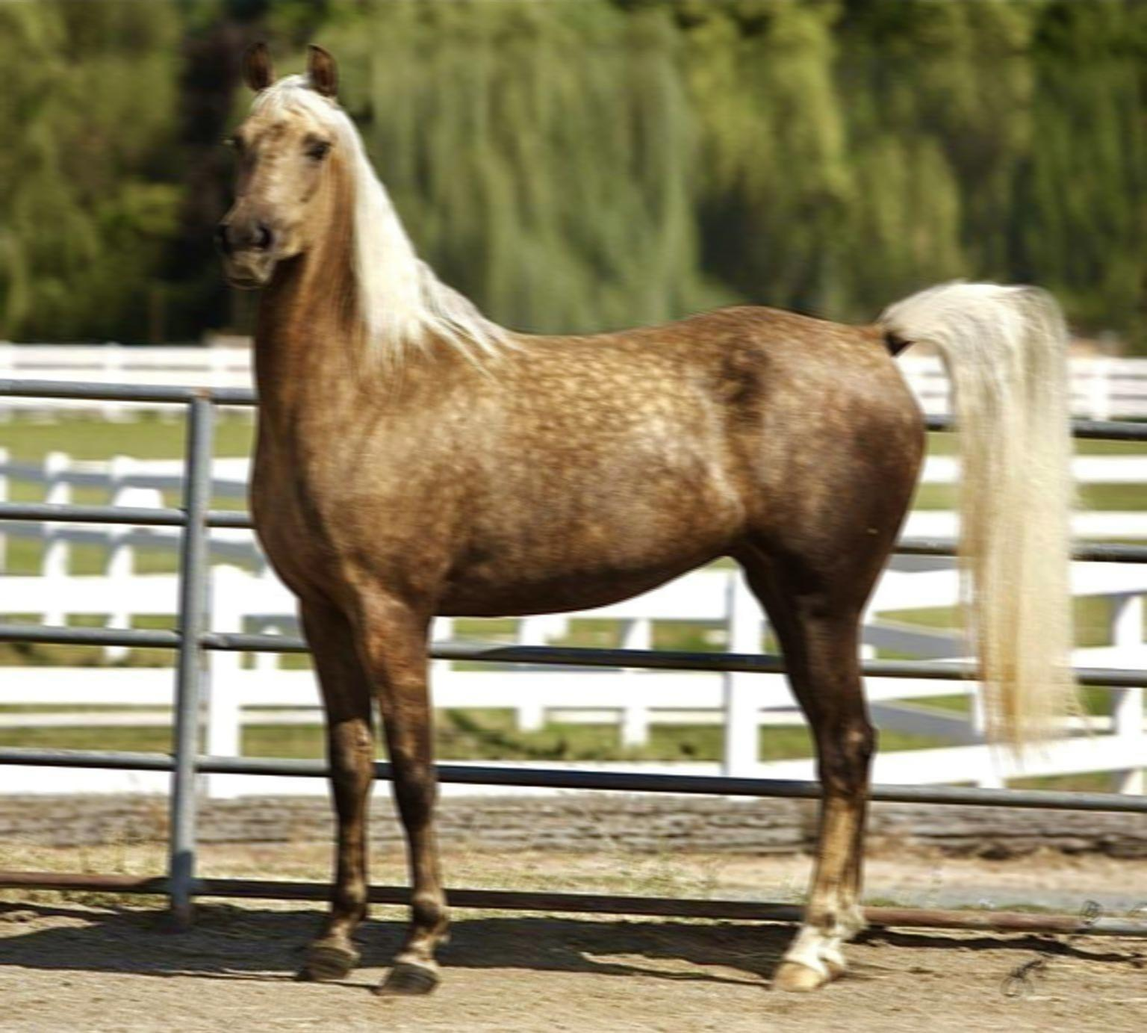horse: (213, 40, 1094, 999)
